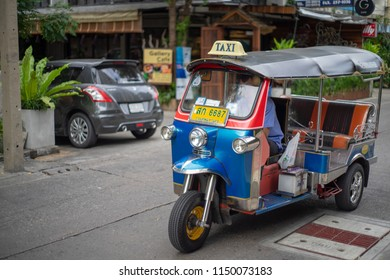car: (43, 57, 163, 148)
threewheel: (161, 40, 386, 254)
